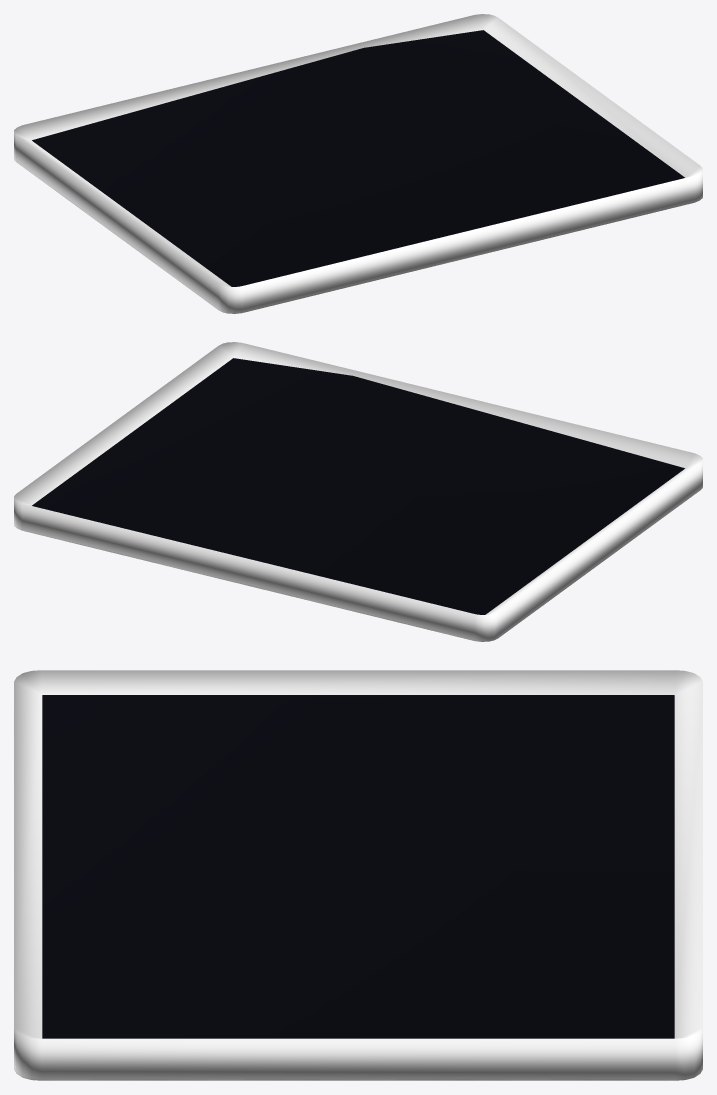
The model's file is KHIP_Roof.FBX.
3 views of the same model, one above another, from view 1: azimuth 30°, elevation 25°; view 2: azimuth 150°, elevation 25°; view 3: azimuth 270°, elevation 25° (orthographic). The views are drawn at different scales.
Parts seen in each view (by area): view 1: KHIP_Roof; view 2: KHIP_Roof; view 3: KHIP_Roof.
Boxes of the visible parts, bbox=[...] form: KHIP_Roof: bbox=[14, 14, 702, 313]; KHIP_Roof: bbox=[14, 342, 702, 641]; KHIP_Roof: bbox=[14, 670, 702, 1080].
Bounding box in the file's own units: 226 × 57.4 × 178.
